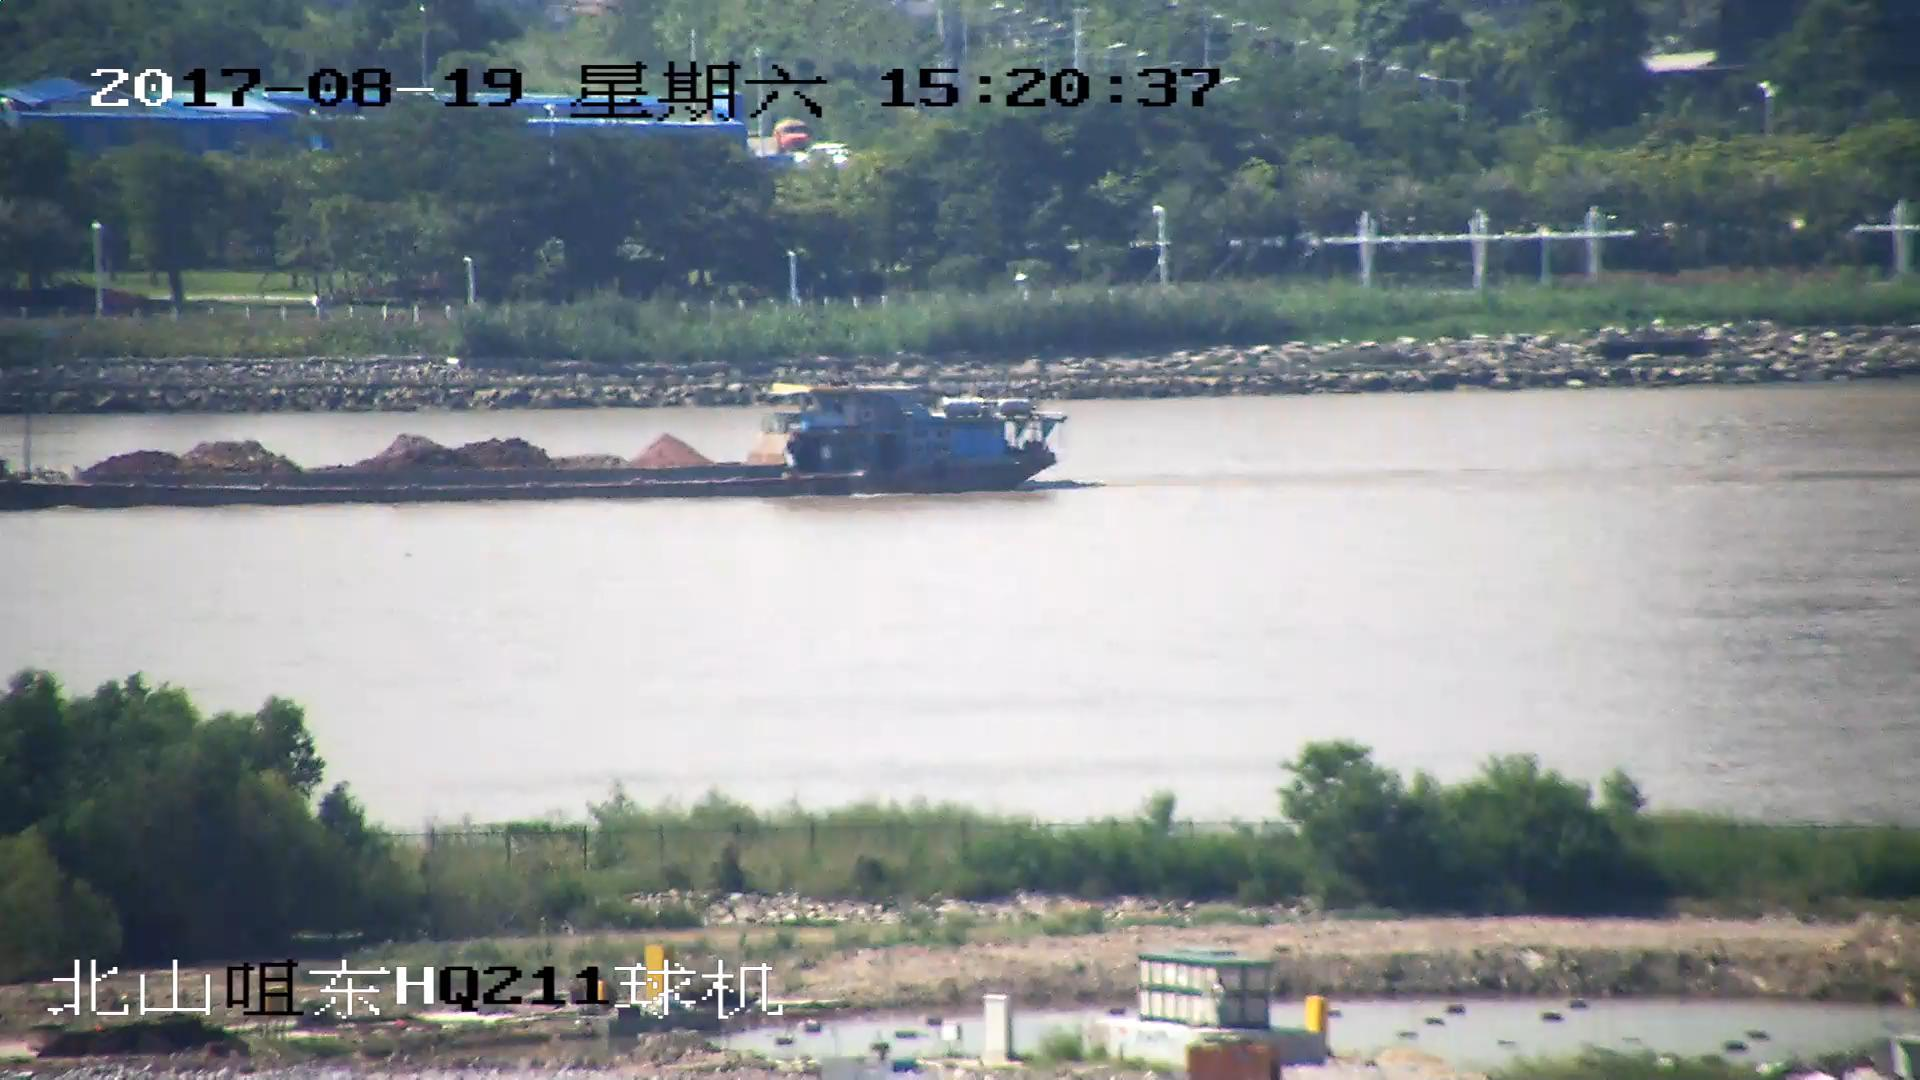Ship: (3, 378, 1062, 512)
